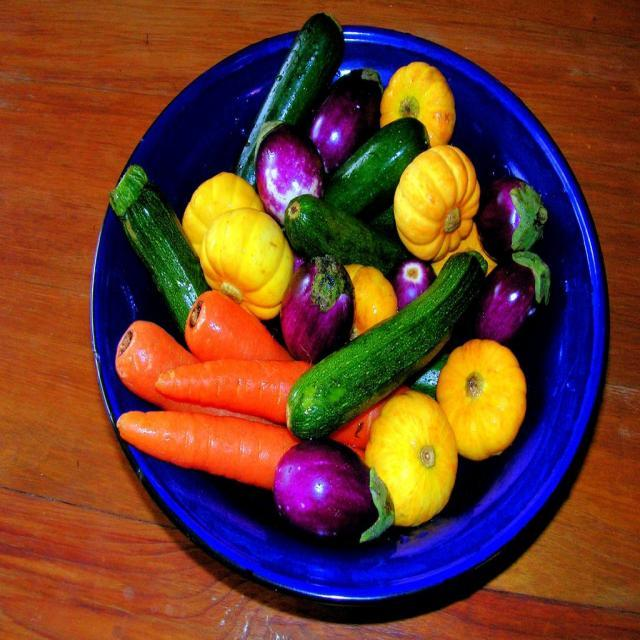Zucchini: (283, 247, 488, 444), (235, 12, 346, 203), (110, 159, 204, 341), (318, 115, 434, 223), (285, 194, 403, 272)
